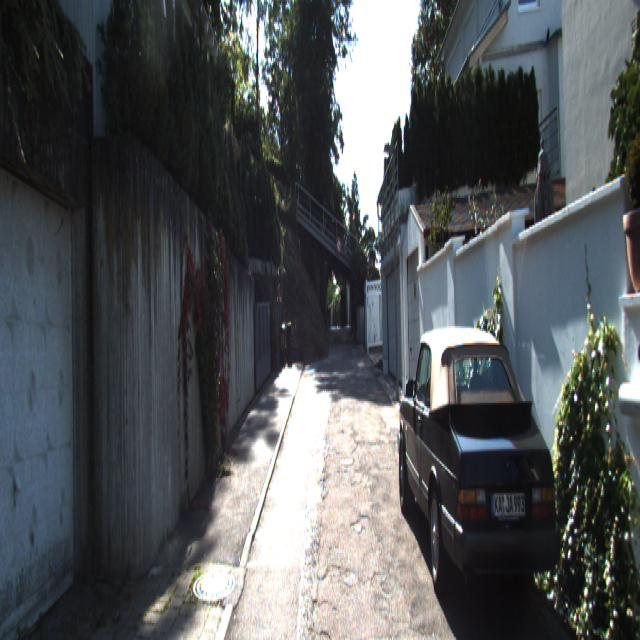Car: (393, 317, 568, 638)
